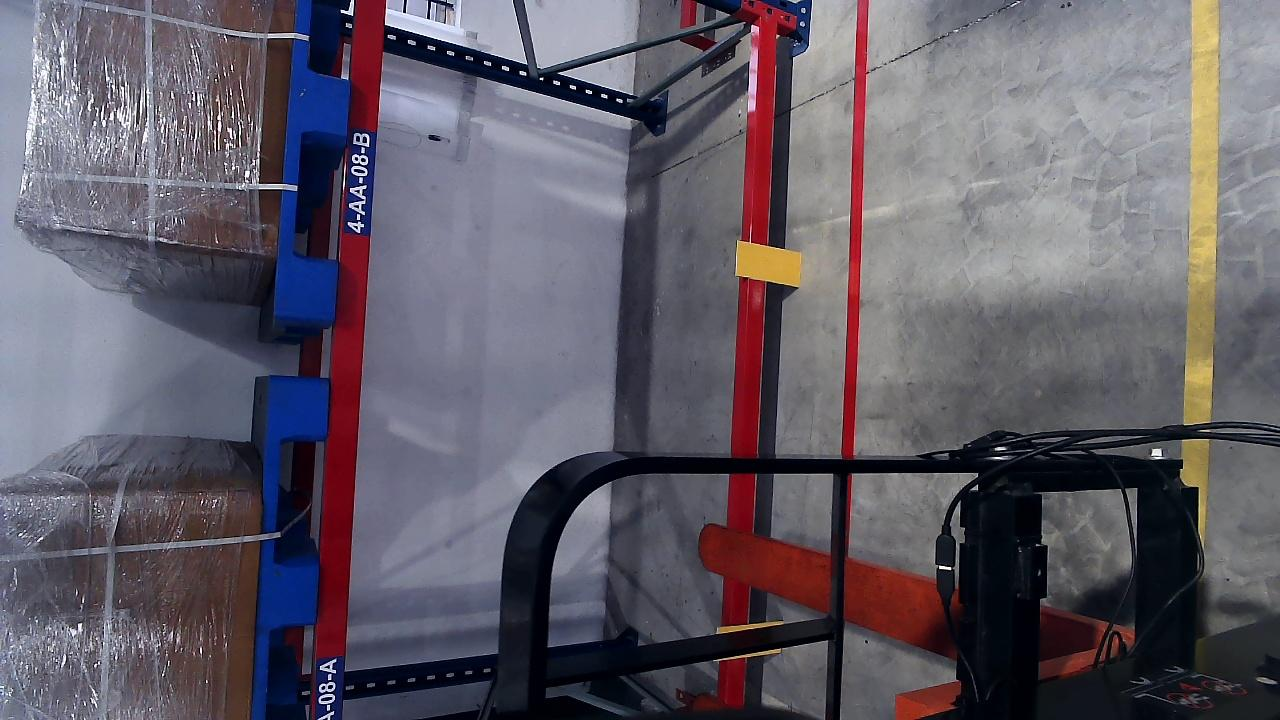h_rack: (315, 0, 388, 720), (729, 11, 778, 564)
orange_strip: (735, 241, 801, 287)
red_line: (838, 9, 870, 578)
small_pallet: (270, 0, 368, 317), (253, 377, 328, 720)
yellow_line: (1181, 0, 1221, 425)
